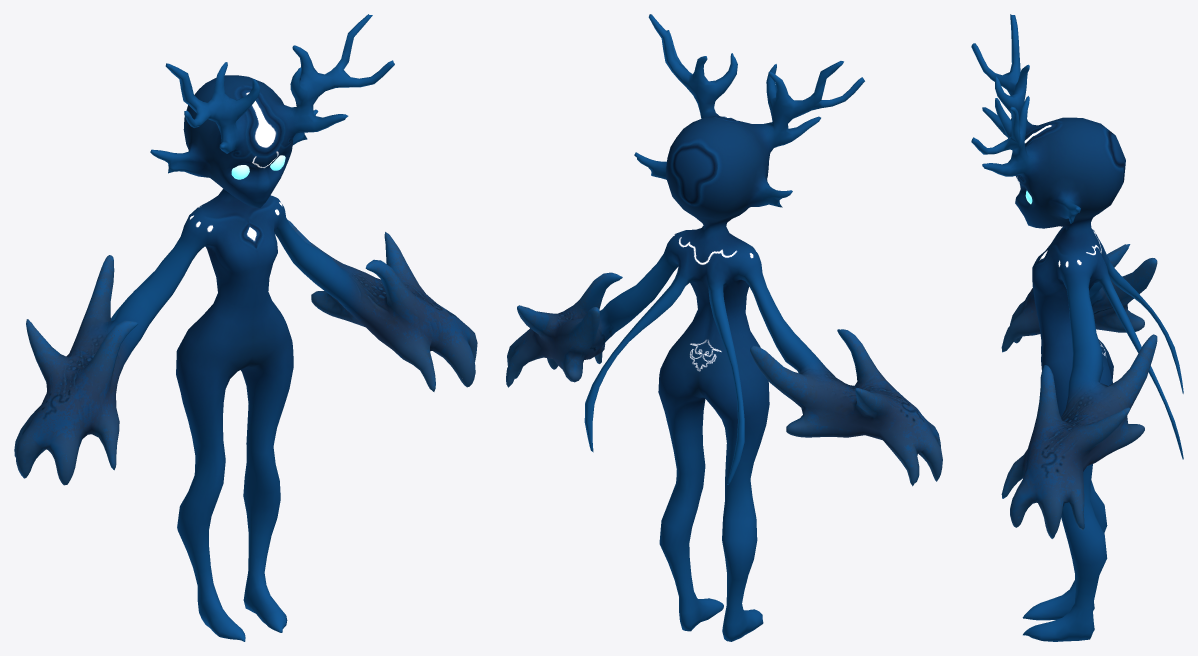
The model's file is fae.gltf.
3 views of the same model, side by side, from view 1: azimuth 30°, elevation 25°; view 2: azimuth 150°, elevation 25°; view 3: azimuth 270°, elevation 25° (orthographic). The views are drawn at different scales.
Visible parts, largest first — view 1: Group49690; view 2: Group49690; view 3: Group49690.
Boxes of the visible parts, x1=… form: Group49690: x1=14, y1=14, x2=477, y2=641; Group49690: x1=506, y1=14, x2=942, y2=641; Group49690: x1=971, y1=14, x2=1183, y2=641.
Size of the model in its own units: 7.88 by 9.91 by 3.36.
Materials: 2 (1 with a texture image).
